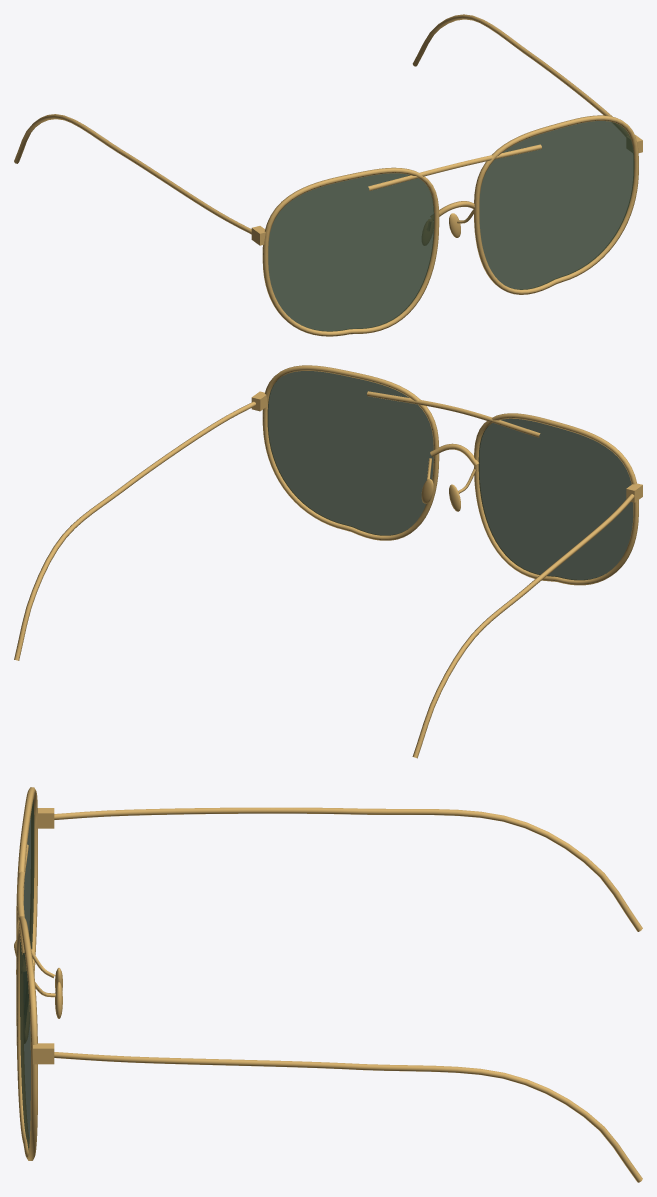
The model's file is NY-S01_Kite_Gold_G_15_green_lens.glb.
The picture shows the model from 3 angles, top to bottom: view 1: azimuth 30°, elevation 25°; view 2: azimuth 150°, elevation 25°; view 3: azimuth 270°, elevation 25°; orthographic projection. The views are drawn at different scales.
Visible parts, largest first — view 1: Kite_Gold_G_15_green_lens_Lenses, Kite_Gold_G_15_green_lens_Metal; view 2: Kite_Gold_G_15_green_lens_Lenses, Kite_Gold_G_15_green_lens_Metal; view 3: Kite_Gold_G_15_green_lens_Metal, Kite_Gold_G_15_green_lens_Lenses.
Part boxes in pixels (left/top/right/bottom): Kite_Gold_G_15_green_lens_Lenses: left=268, top=121, right=634, bottom=331; Kite_Gold_G_15_green_lens_Metal: left=14, top=14, right=642, bottom=336; Kite_Gold_G_15_green_lens_Lenses: left=267, top=371, right=633, bottom=580; Kite_Gold_G_15_green_lens_Metal: left=14, top=365, right=642, bottom=758; Kite_Gold_G_15_green_lens_Metal: left=14, top=787, right=642, bottom=1182; Kite_Gold_G_15_green_lens_Lenses: left=20, top=799, right=34, bottom=1150.
Bounding box in the file's own units: 0.1447 × 0.0542 × 0.1481.
